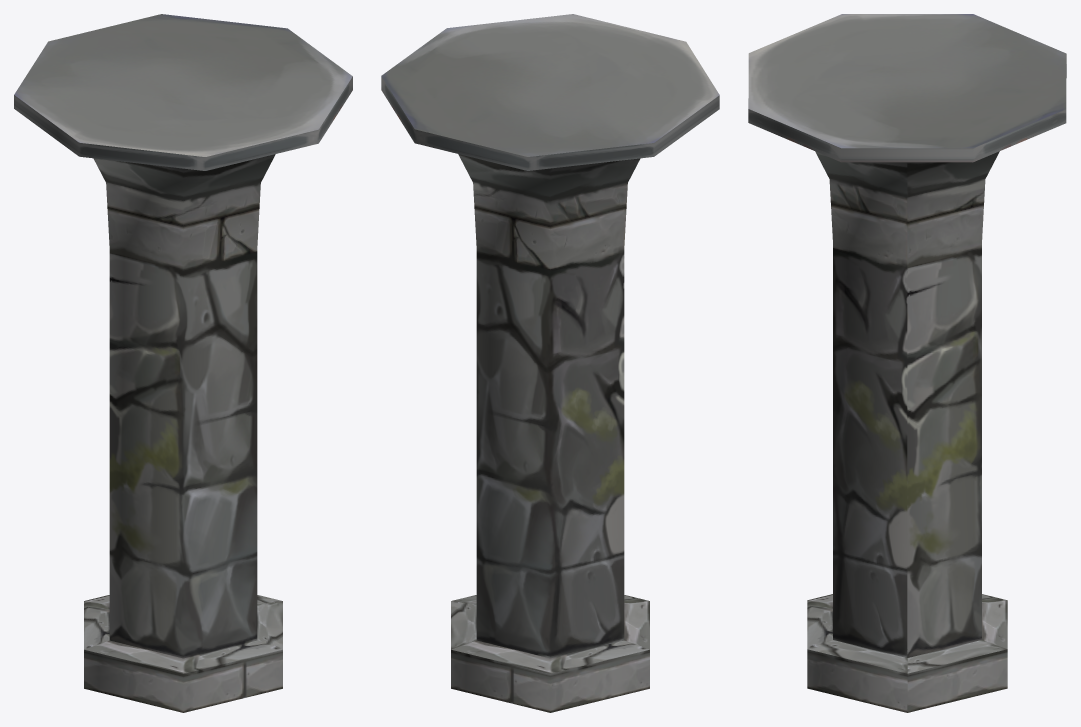
File: shizhu01.fbx
3 renders of one model, left to right at view 1: azimuth 30°, elevation 25°; view 2: azimuth 150°, elevation 25°; view 3: azimuth 270°, elevation 25°, orthographic.
Parts seen in each view (by area): view 1: shizhu01; view 2: shizhu01; view 3: shizhu01.
Boxes of the visible parts, box(x1,y1,x2,y2) form: shizhu01: box(14, 14, 352, 712); shizhu01: box(381, 14, 719, 712); shizhu01: box(748, 14, 1066, 712).
Bounding box in the file's own units: 38.54 × 77.91 × 38.54.
Materials: 1 (1 with a texture image).
